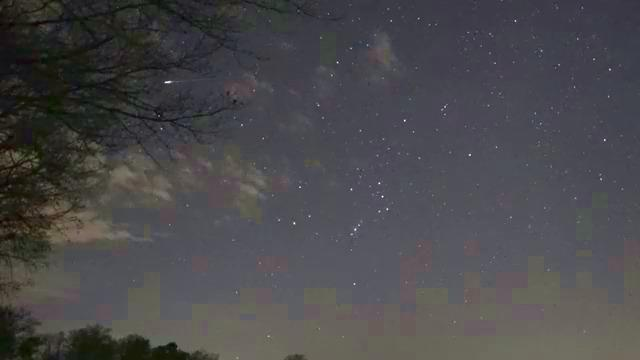meteorite: (149, 71, 241, 90)
